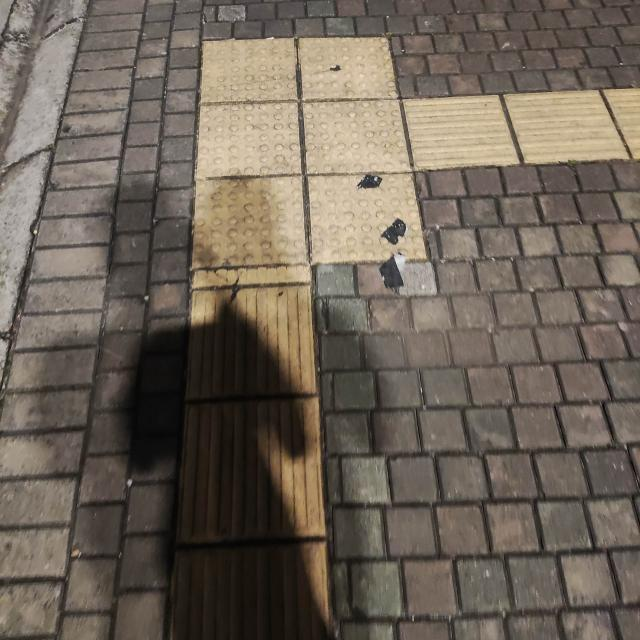kanan: (129, 76, 537, 326)
